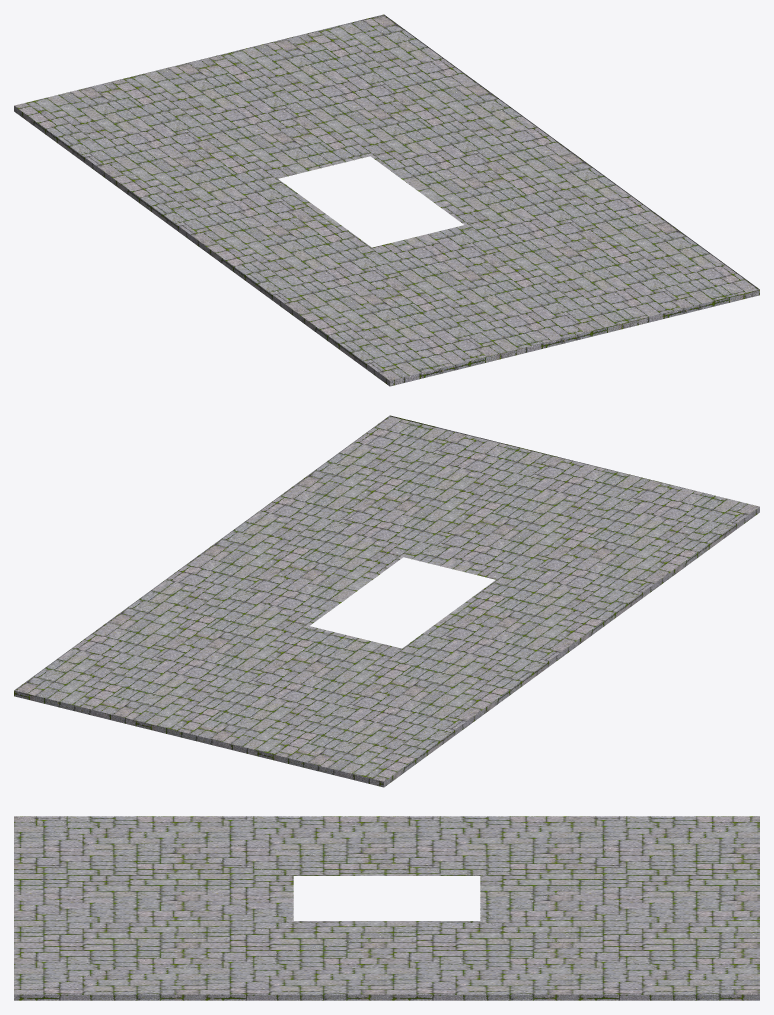
Rendered from piso.obj.
The picture shows the model from 3 angles, top to bottom: view 1: azimuth 30°, elevation 25°; view 2: azimuth 150°, elevation 25°; view 3: azimuth 270°, elevation 25°; orthographic projection.
Parts seen in each view (by area): view 1: PisoInterior.004; view 2: PisoInterior.004; view 3: PisoInterior.004.
Boxes of the visible parts, box(x1,y1,x2,y2) form: PisoInterior.004: box(14, 14, 759, 386); PisoInterior.004: box(14, 415, 759, 787); PisoInterior.004: box(14, 816, 759, 1000).
Bounding box in the file's own units: 95.64 × 1.67 × 168.
Materials: 1 (1 with a texture image).
